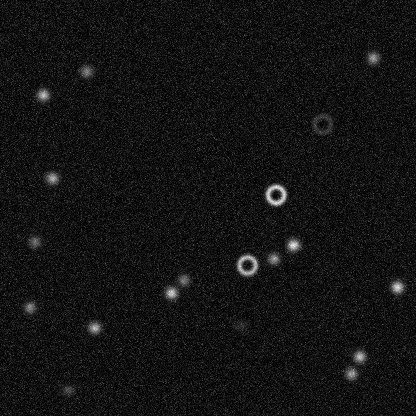Ring: (263, 182, 287, 206), (235, 252, 259, 276), (310, 111, 334, 135)
Spot: (389, 278, 405, 294), (175, 272, 191, 288), (59, 381, 75, 397), (285, 236, 301, 252), (351, 348, 367, 364), (232, 317, 248, 333), (265, 250, 281, 266), (21, 299, 37, 315), (35, 86, 51, 102), (163, 284, 179, 300), (365, 49, 381, 65), (86, 319, 102, 335), (26, 233, 42, 249), (343, 365, 359, 381), (44, 170, 60, 186), (78, 63, 94, 79)
